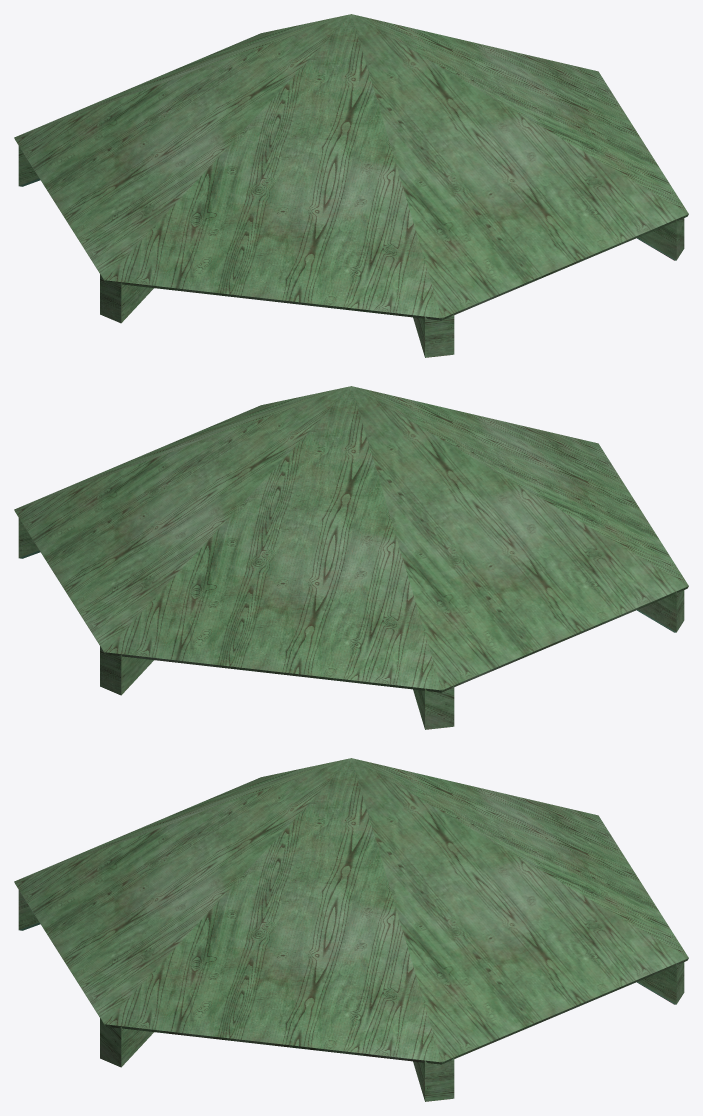
The model's file is SM_R_MRHJGTop.fbx.
The picture shows the model from 3 angles, top to bottom: view 1: azimuth 30°, elevation 25°; view 2: azimuth 150°, elevation 25°; view 3: azimuth 270°, elevation 25°; orthographic projection.
Parts seen in each view (by area): view 1: SM_R_MRHJGTop; view 2: SM_R_MRHJGTop; view 3: SM_R_MRHJGTop.
Part boxes in pixels (x1,y1,x2,y2): SM_R_MRHJGTop: (14,14,688,357); SM_R_MRHJGTop: (14,386,688,729); SM_R_MRHJGTop: (14,758,688,1101).
Size of the model in its own units: 356 by 356 by 119.
Materials: 2 (2 with a texture image).
